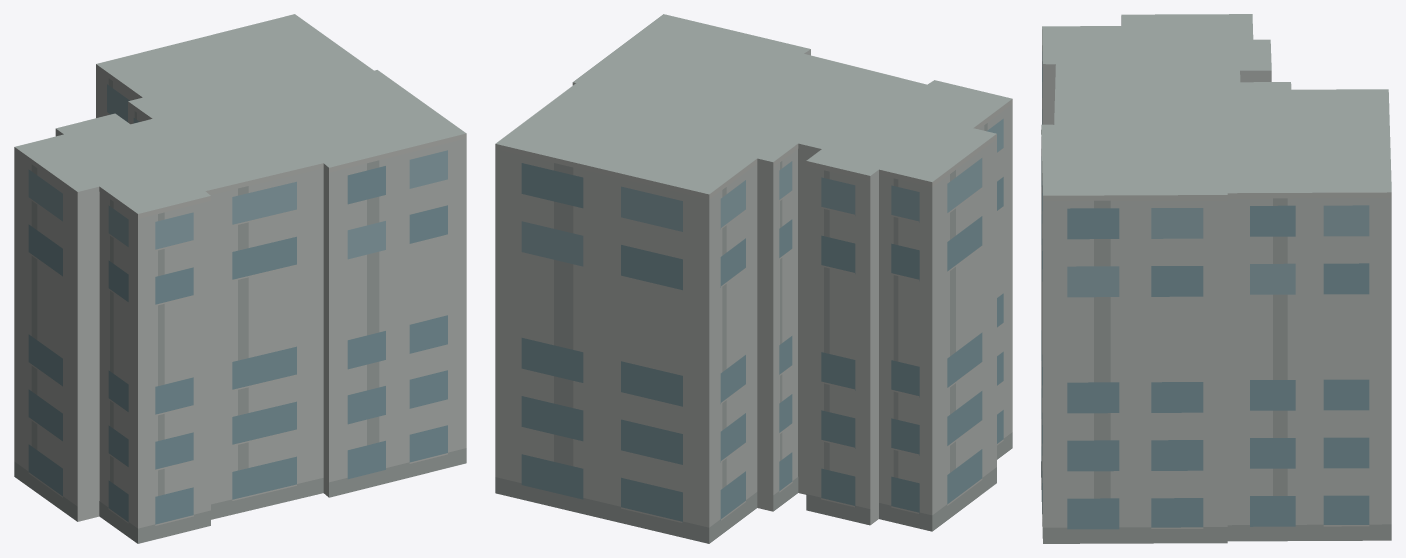
Rendered from survey-upis-32919667.glb.
3 renders of one model, left to right at view 1: azimuth 30°, elevation 25°; view 2: azimuth 150°, elevation 25°; view 3: azimuth 270°, elevation 25°, orthographic. The views are drawn at different scales.
Parts seen in each view (by area): view 1: survey-upis-32919667.tmp; view 2: survey-upis-32919667.tmp; view 3: survey-upis-32919667.tmp.
Part boxes in pixels (x1,y1,x2,y2): survey-upis-32919667.tmp: (14,14,466,543); survey-upis-32919667.tmp: (495,14,1012,543); survey-upis-32919667.tmp: (1041,14,1391,543).
Bounding box in the file's own units: 18.03 × 16.1 × 14.71.
